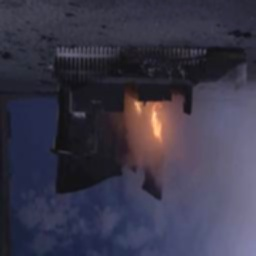fire: (132, 97, 177, 161)
smoke: (173, 151, 256, 254)
